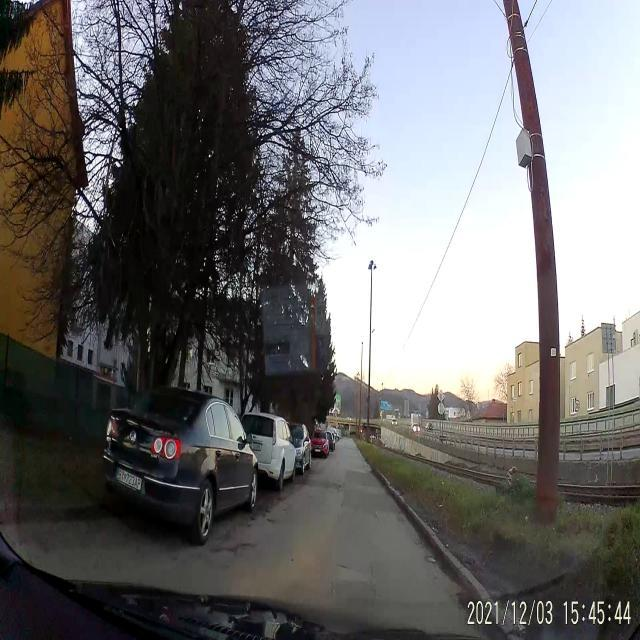Pothole: (230, 536, 252, 558)
